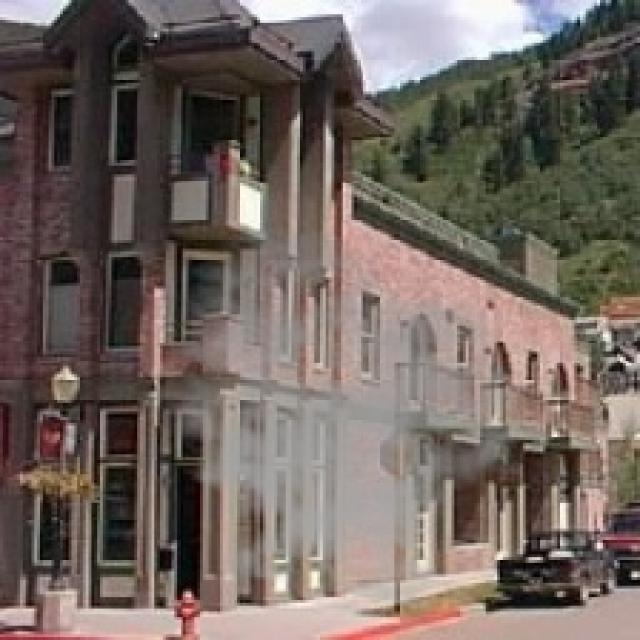Smoke: (123, 223, 543, 612)
